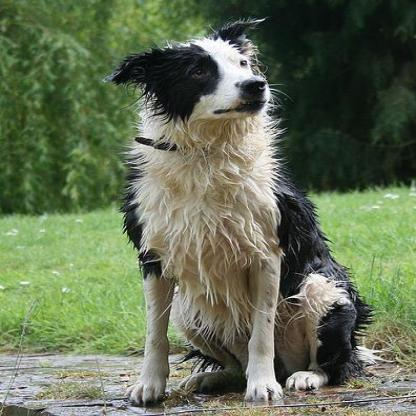collie: (100, 14, 375, 405)
